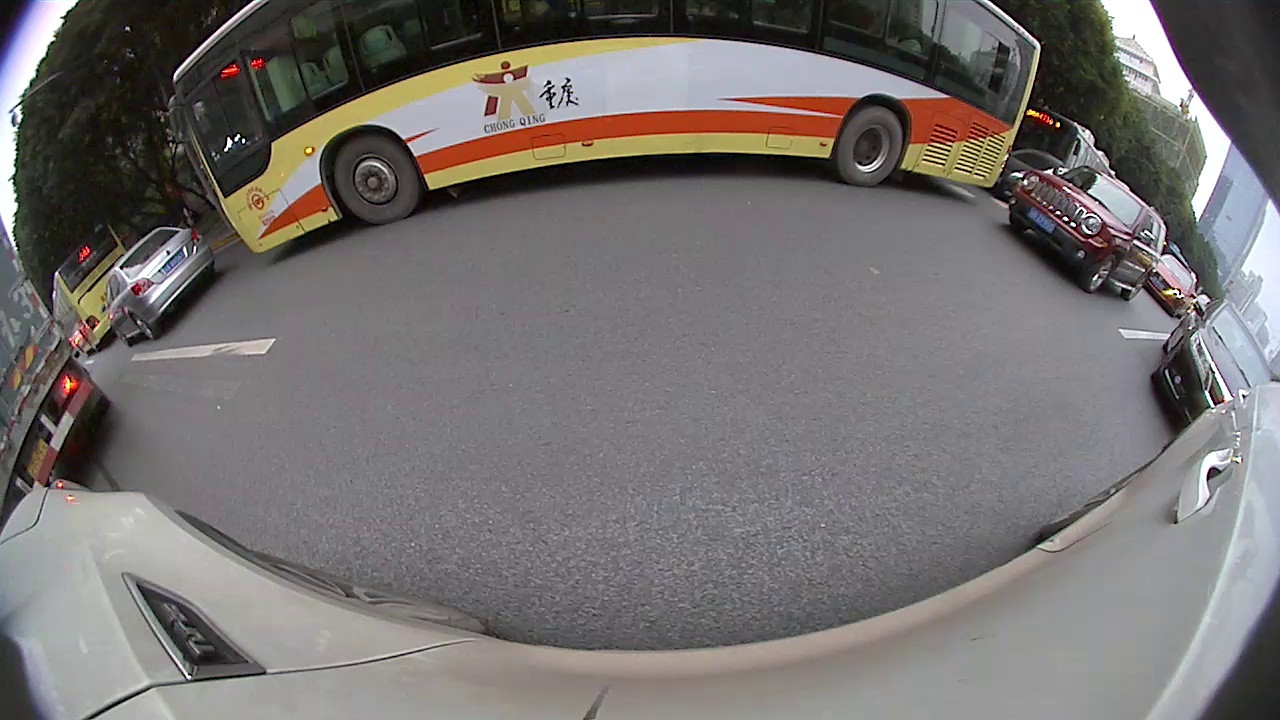bus: (168, 1, 1043, 258), (49, 222, 133, 357), (1007, 103, 1120, 194)
car: (1012, 166, 1167, 302), (1150, 298, 1271, 428), (106, 226, 219, 351), (1149, 253, 1201, 317)
front: (329, 135, 423, 228), (1083, 252, 1118, 297)
rear: (834, 105, 907, 192), (1121, 271, 1150, 304), (130, 314, 159, 344)
truck: (0, 213, 114, 532)
